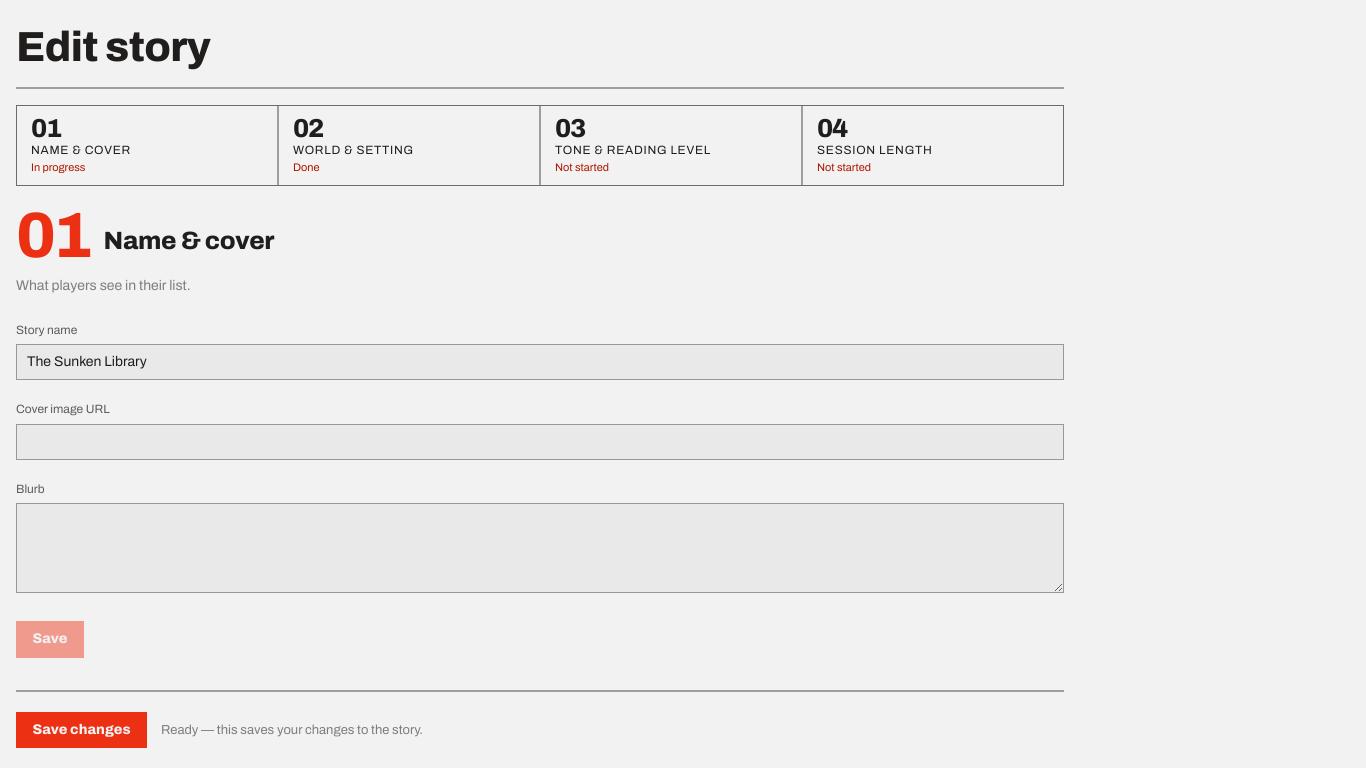
Test: Admin story edit flow (FR-003, FR-006) › shows the reload-and-reapply message on a 409 stale_story
Click the button "Save changes".
click(81, 730)  # box [16,712,147,748]
(page scrolled)
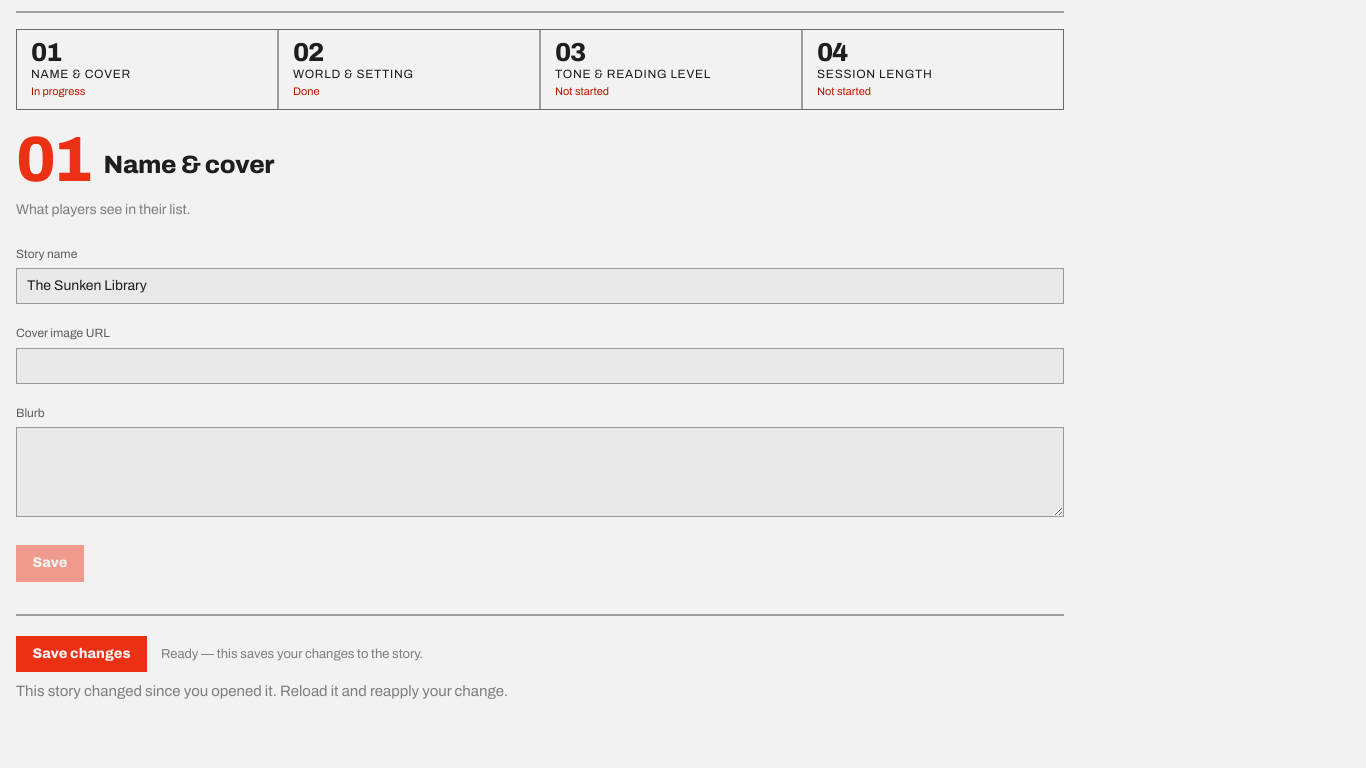
Expected: the text "This story changed since you opened it. Reload it and reapply your change." is shown, [16,683,508,699]
